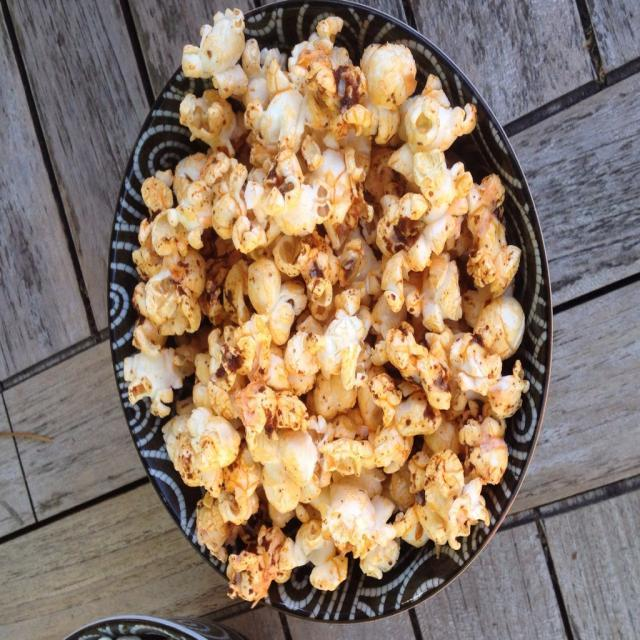Popcorn: (122, 9, 532, 610)
